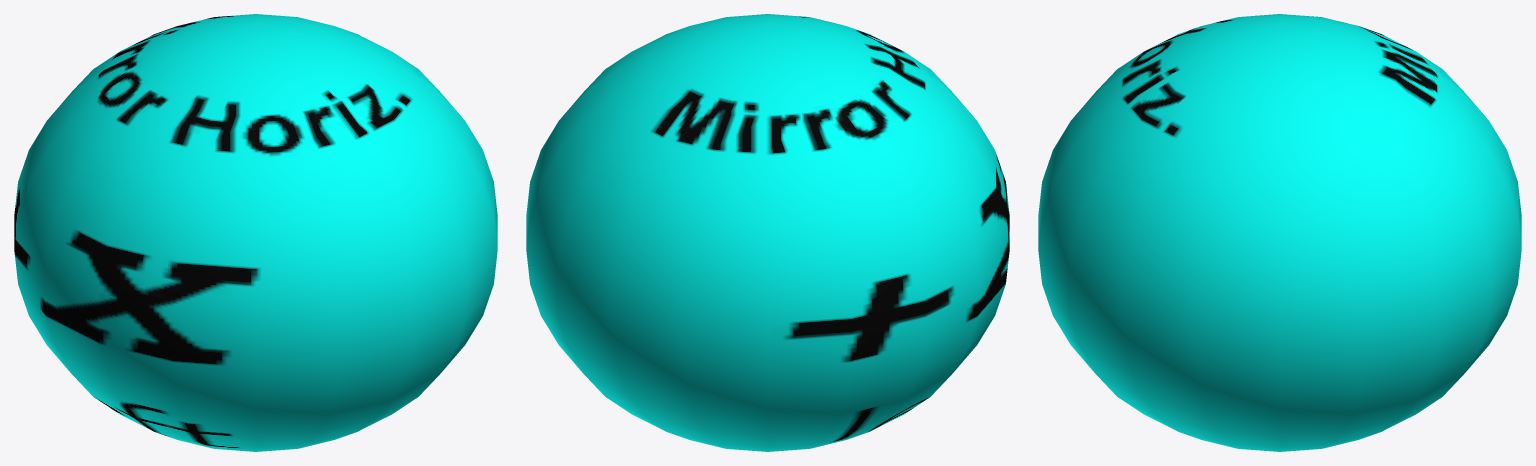
File: skydome.fbx
3 views of the same model, side by side, from view 1: azimuth 30°, elevation 25°; view 2: azimuth 150°, elevation 25°; view 3: azimuth 270°, elevation 25° (orthographic).
Parts seen in each view (by area): view 1: pSphere1; view 2: pSphere1; view 3: pSphere1.
Boxes of the visible parts, <box> form: pSphere1: <box>14,14,497,451</box>; pSphere1: <box>526,14,1009,451</box>; pSphere1: <box>1038,14,1521,451</box>.
Size of the model in its own units: 1033 by 897 by 1018.
